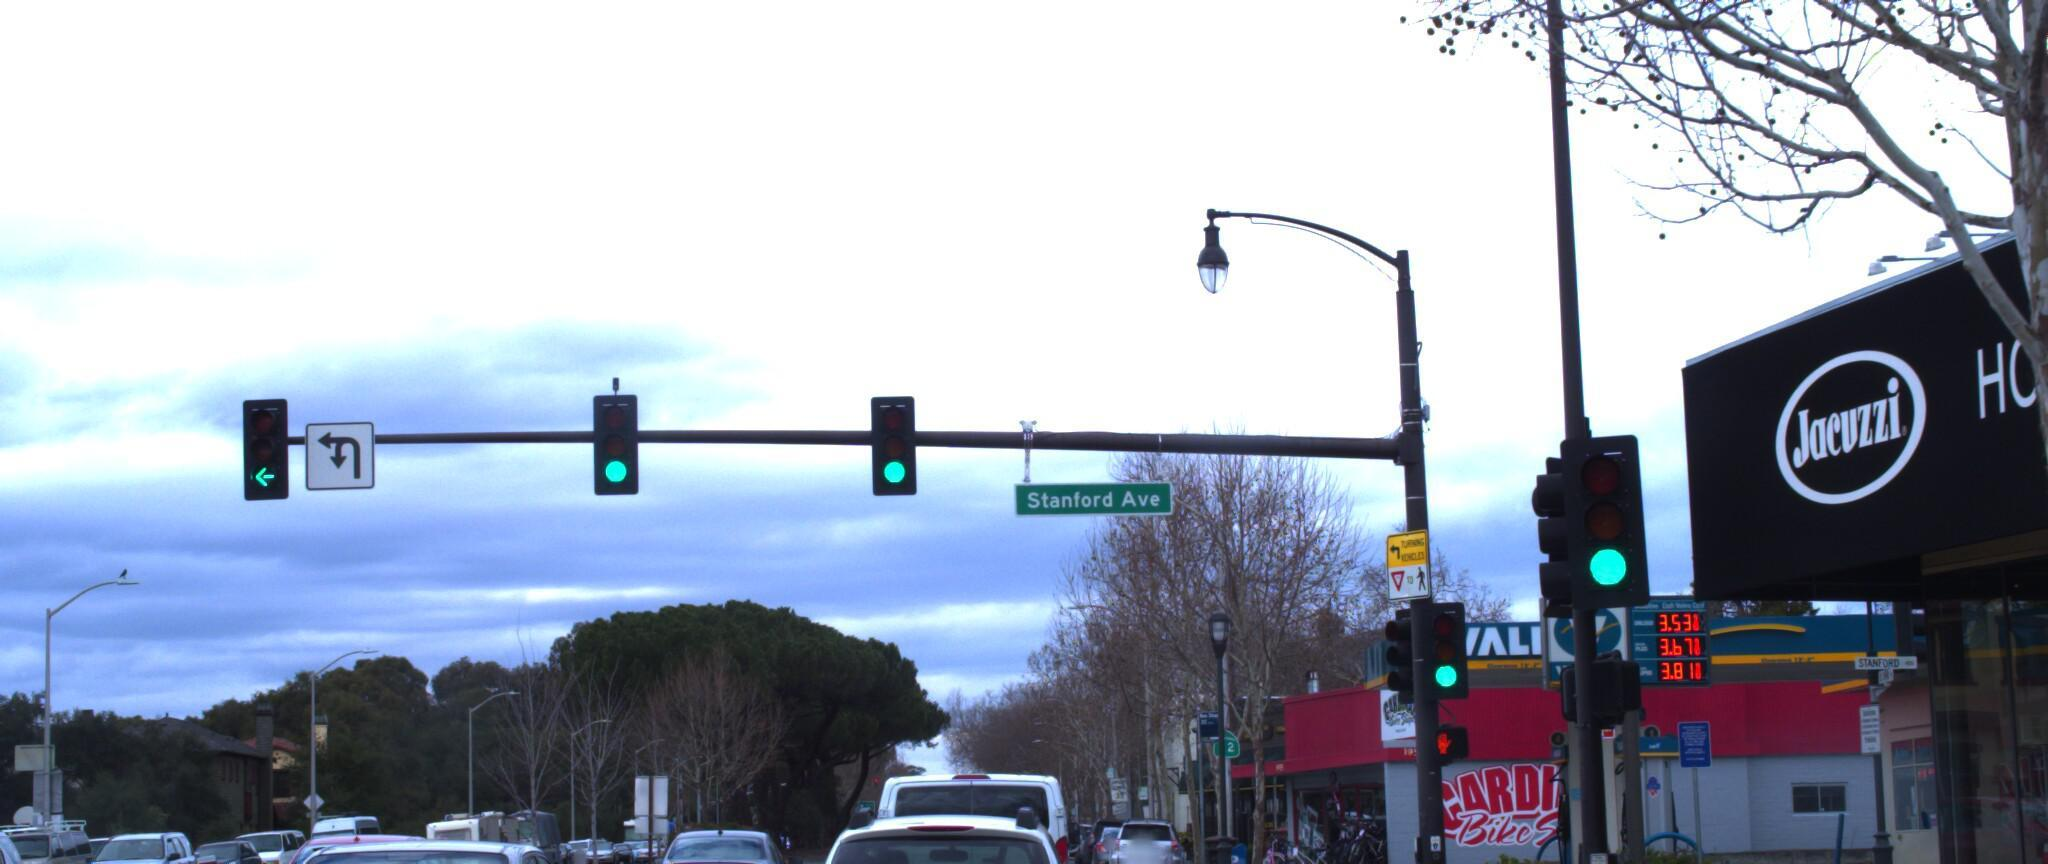bicycle: (1283, 831, 1337, 864)
car: (767, 782, 1104, 864), (0, 679, 119, 864), (872, 767, 1081, 864), (229, 829, 643, 864), (219, 814, 451, 864), (633, 818, 808, 864), (0, 814, 125, 864), (71, 827, 216, 864), (0, 822, 118, 864), (1115, 809, 1203, 864), (1966, 814, 2048, 864), (0, 807, 47, 864)
